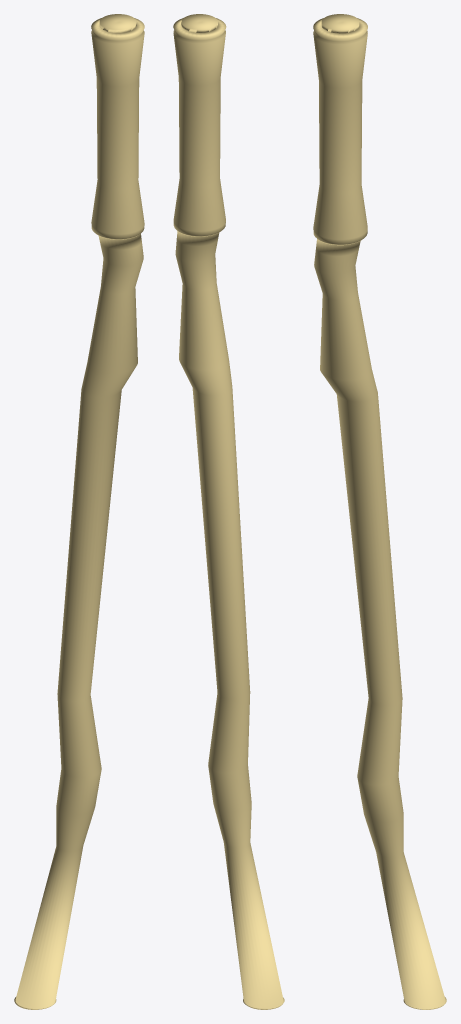
File: hikingstick3 1.fbx
The picture shows the model from 3 angles, left to right: view 1: azimuth 90°, elevation 25°; view 2: azimuth 210°, elevation 25°; view 3: azimuth 270°, elevation 25°; orthographic projection. The views are drawn at different scales.
Parts seen in each view (by area): view 1: Hiking Stick; view 2: Hiking Stick; view 3: Hiking Stick.
Boxes of the visible parts, x1,y1,x2,y2 form: Hiking Stick: (14, 14, 144, 1009); Hiking Stick: (173, 14, 284, 1009); Hiking Stick: (313, 14, 446, 1009).
Bounding box in the file's own units: 22.9 × 326 × 39.81.
